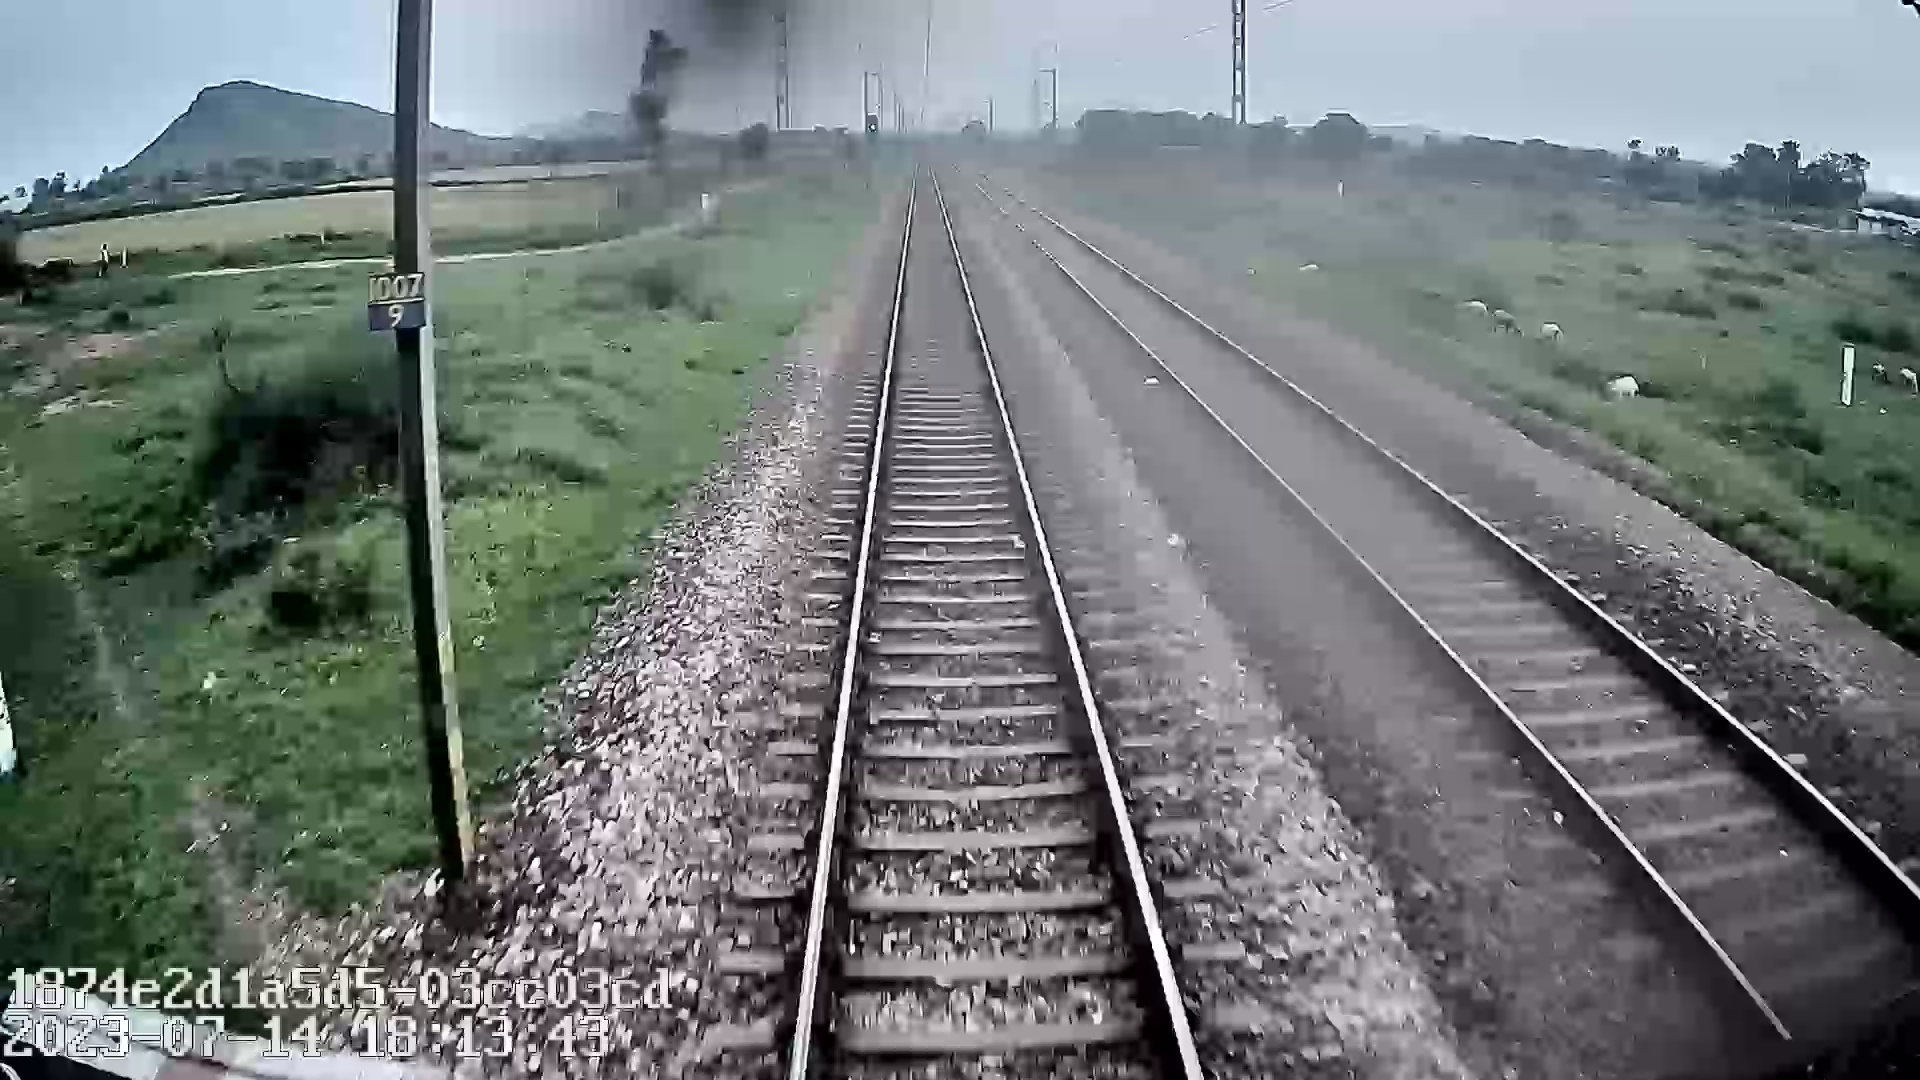track1: (798, 171, 1195, 1073)
track2: (1002, 204, 1919, 1015)
